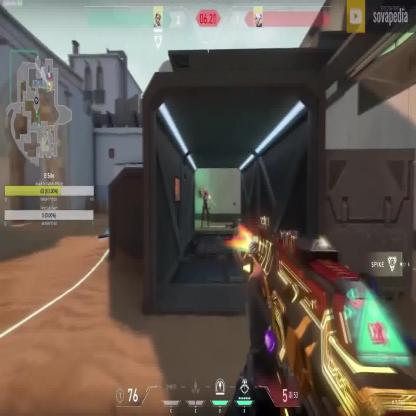enemy: (200, 186, 212, 228)
enemy_head: (204, 188, 208, 197)
